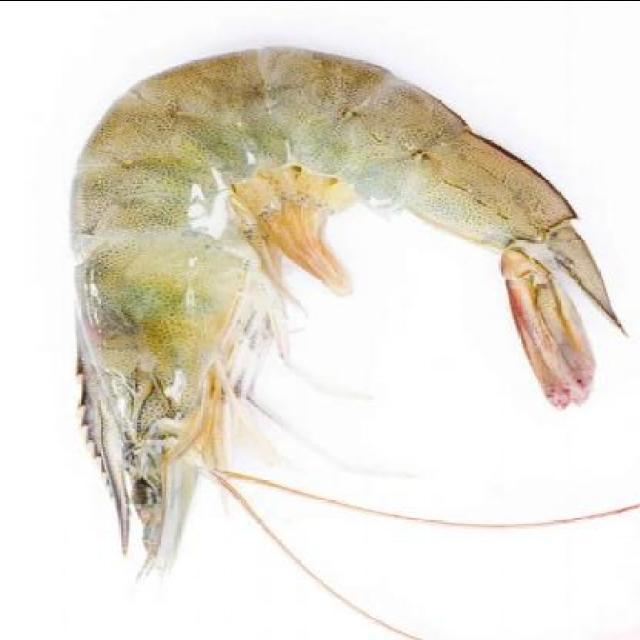shrimp: (54, 37, 624, 590)
